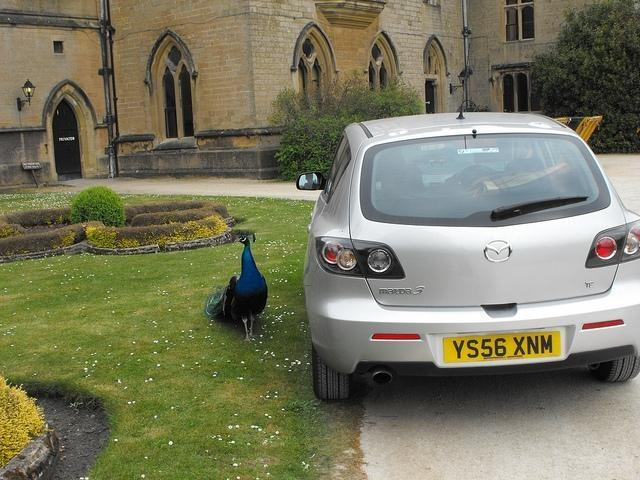car: (300, 112, 640, 405)
